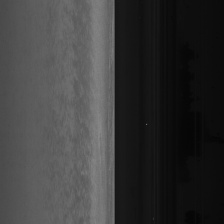silk_spot: (79, 50, 99, 173)
